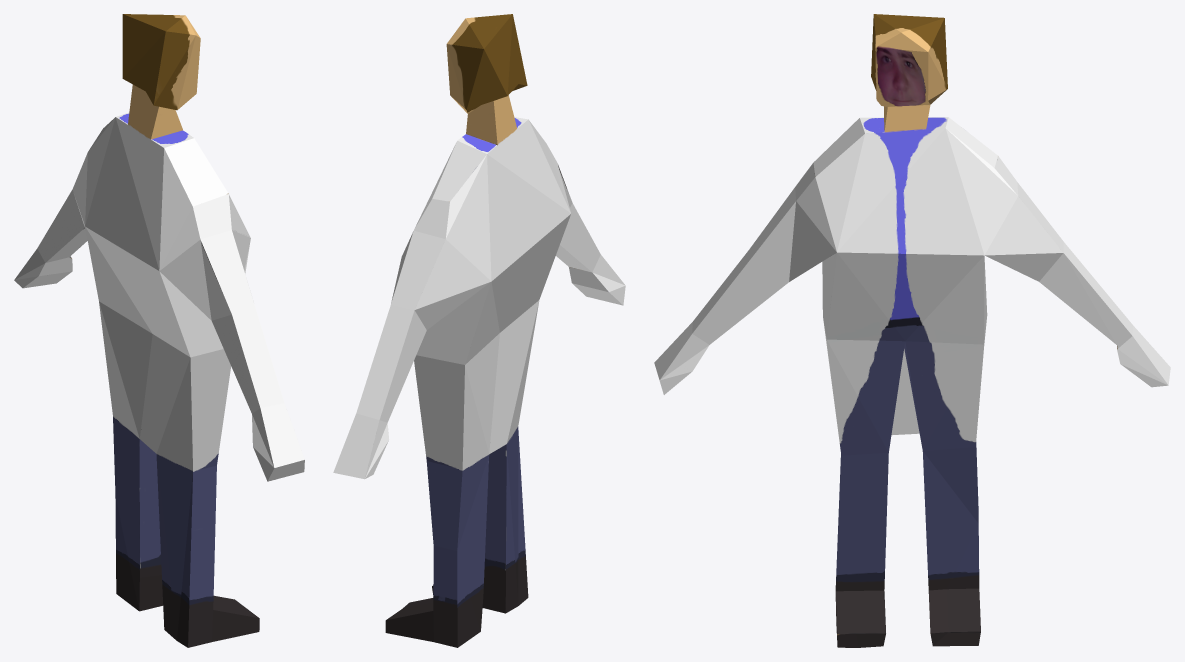
File: meLab.obj
3 views of the same model, side by side, from view 1: azimuth 30°, elevation 25°; view 2: azimuth 150°, elevation 25°; view 3: azimuth 270°, elevation 25° (orthographic).
Visible parts, largest first — view 1: Plane; view 2: Plane; view 3: Plane.
Boxes of the visible parts, x1,y1,x2,y2 form: Plane: (14, 14, 304, 647); Plane: (333, 14, 625, 647); Plane: (654, 14, 1170, 647).
Size of the model in its own units: 1.22 by 6.53 by 5.11.
1 material, 1 textured.
